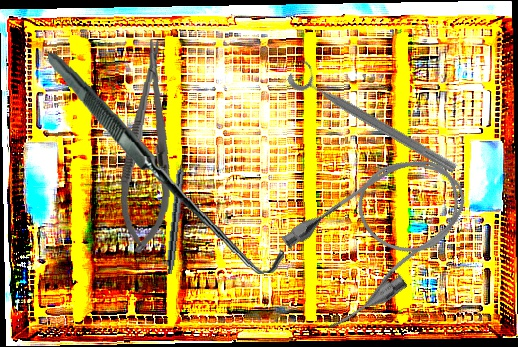Cannula: (269, 134, 491, 338)
Fixation Ring: (284, 55, 466, 179)
Handpiece: (165, 150, 189, 275)
Hook Surgical: (48, 37, 285, 288)
Needle Holder: (115, 36, 182, 257)
